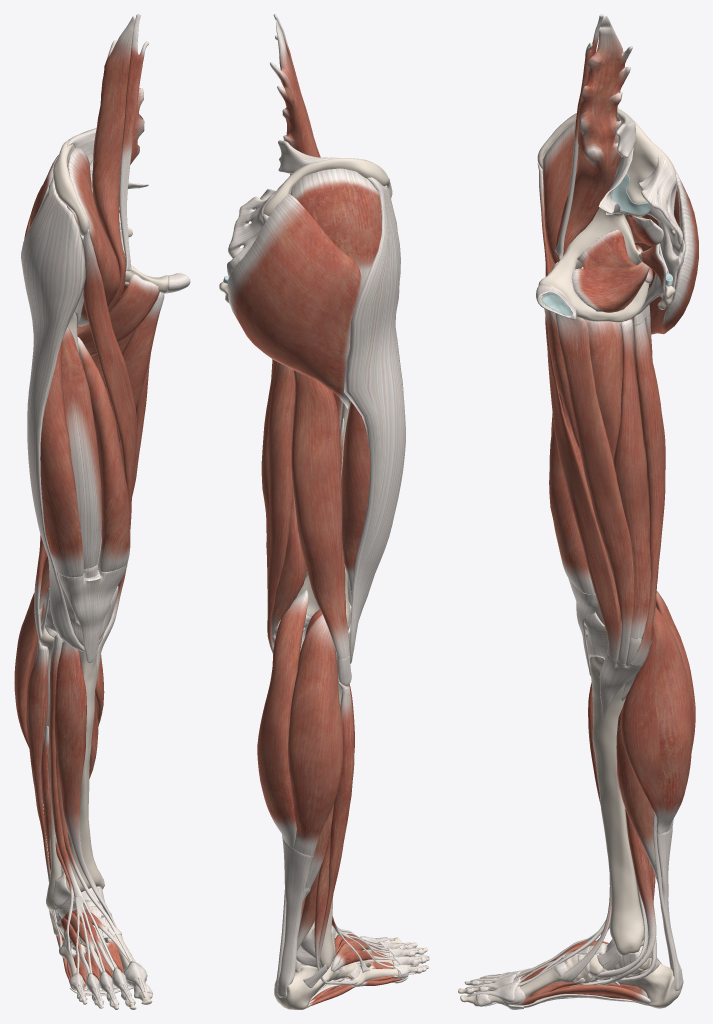
The model's file is lower-muscles-vastus-intermedius.glb.
3 renders of one model, left to right at view 1: azimuth 30°, elevation 25°; view 2: azimuth 150°, elevation 25°; view 3: azimuth 270°, elevation 25°, orthographic. The views are drawn at different scales.
Visible parts, largest first — view 1: Iliotibial tract.r, Psoas major.r, Vastus lateralis muscle.r, Vastus intermedius muscle.r, Tibialis anterior muscle.r, Vastus medialis muscle.r, Sartorius muscle.r, Quadriceps common tendon and patellar ligament.r, Fibularis longus muscle.r, Iliacus muscle.r, Tibia.r, Psoas minor.r (+18 smaller); view 2: Gluteus maximus muscle.r, Iliotibial tract.r, Long head of biceps femoris.r, Lateral head of gastrocnemius.r, Medial head of gastrocnemius.r, Gluteus medius muscle.r, Semitendinosus muscle.r, Vastus lateralis muscle.r, Fibularis longus muscle.r, Semimembranosus muscle.r, Calcaneal tendon.r, Psoas major.r (+11 smaller); view 3: Medial head of gastrocnemius.r, Gracilis muscle.r, Psoas major.r, Tibia.r, Semimembranosus muscle.r, Hip bone.r, Sartorius muscle.r, Semitendinosus muscle.r, Obturator internus.r, Vastus medialis muscle.r, Adductor magnus.r, Gluteus maximus muscle.r (+22 smaller).
Boxes of the visible parts, <box> form: Iliotibial tract.r: <box>21,177,85,651</box>; Psoas major.r: <box>77,16,144,327</box>; Vastus lateralis muscle.r: <box>40,342,83,577</box>; Vastus intermedius muscle.r: <box>61,326,102,568</box>; Tibialis anterior muscle.r: <box>54,641,116,927</box>; Vastus medialis muscle.r: <box>77,337,130,572</box>; Sartorius muscle.r: <box>79,229,136,613</box>; Quadriceps common tendon and patellar ligament.r: <box>57,563,127,662</box>; Fibularis longus muscle.r: <box>26,639,64,940</box>; Iliacus muscle.r: <box>67,147,120,326</box>; Tibia.r: <box>56,632,104,891</box>; Psoas minor.r: <box>119,14,148,271</box>; Gluteus maximus muscle.r: <box>227,193,362,408</box>; Iliotibial tract.r: <box>344,177,405,663</box>; Long head of biceps femoris.r: <box>291,370,349,659</box>; Lateral head of gastrocnemius.r: <box>288,614,343,856</box>; Medial head of gastrocnemius.r: <box>257,590,308,848</box>; Gluteus medius muscle.r: <box>290,168,381,287</box>; Semitendinosus muscle.r: <box>267,362,295,653</box>; Vastus lateralis muscle.r: <box>341,401,370,591</box>; Fibularis longus muscle.r: <box>318,682,354,982</box>; Semimembranosus muscle.r: <box>261,361,306,635</box>; Calcaneal tendon.r: <box>277,838,313,997</box>; Psoas major.r: <box>270,20,320,175</box>; Medial head of gastrocnemius.r: <box>620,607,693,834</box>; Gracilis muscle.r: <box>555,313,634,664</box>; Psoas major.r: <box>555,15,632,261</box>; Tibia.r: <box>589,656,648,956</box>; Semimembranosus muscle.r: <box>613,319,658,638</box>; Hip bone.r: <box>537,108,675,322</box>; Sartorius muscle.r: <box>537,163,620,660</box>; Semitendinosus muscle.r: <box>631,319,665,665</box>; Obturator internus.r: <box>571,229,649,312</box>; Vastus medialis muscle.r: <box>549,393,595,594</box>; Adductor magnus.r: <box>585,319,622,499</box>; Gluteus maximus muscle.r: <box>631,150,698,334</box>.
Size of the model in its own units: 0.1781 by 1.15 by 0.2463.
48 materials, 13 textured.
